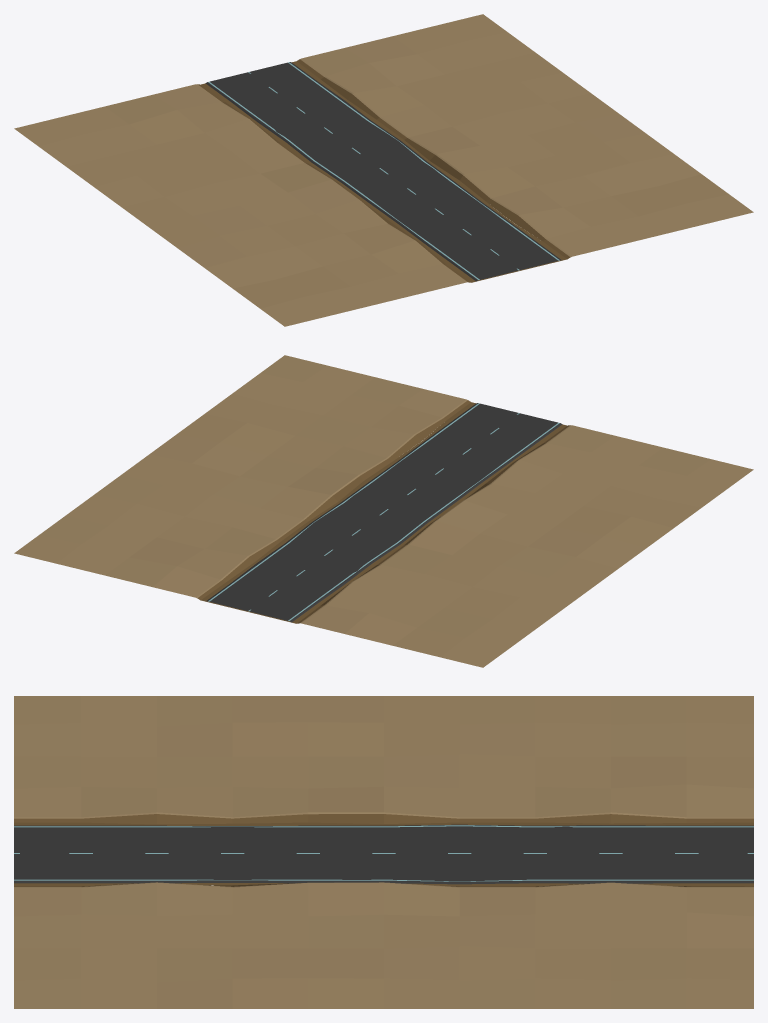
Rendered from model_road_dirt_straight_01.fbx.
3 renders of one model, top to bottom at view 1: azimuth 30°, elevation 25°; view 2: azimuth 150°, elevation 25°; view 3: azimuth 270°, elevation 25°, orthographic. The views are drawn at different scales.
Parts seen in each view (by area): view 1: model_road_dirt_straight_01; view 2: model_road_dirt_straight_01; view 3: model_road_dirt_straight_01.
Part boxes in pixels (bbox=[...]): model_road_dirt_straight_01: bbox=[14, 14, 753, 326]; model_road_dirt_straight_01: bbox=[14, 355, 753, 667]; model_road_dirt_straight_01: bbox=[14, 696, 753, 1008].
Bounding box in the file's own units: 6000 × 62.78 × 6000.
1 material, 1 textured.
